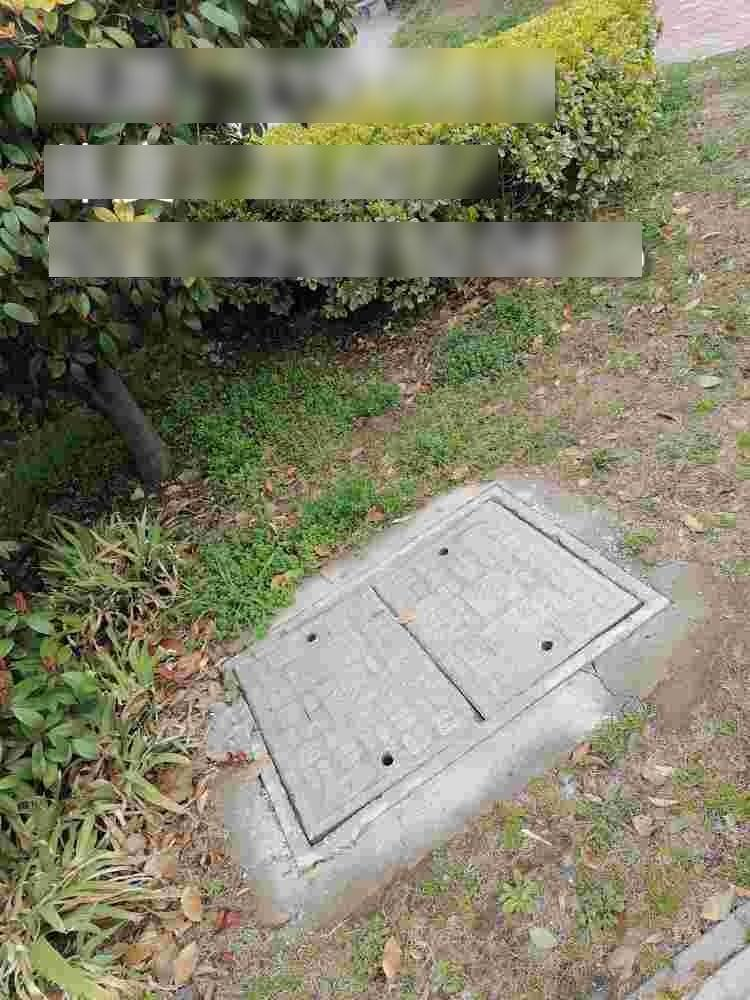wellcover: (196, 479, 669, 852)
